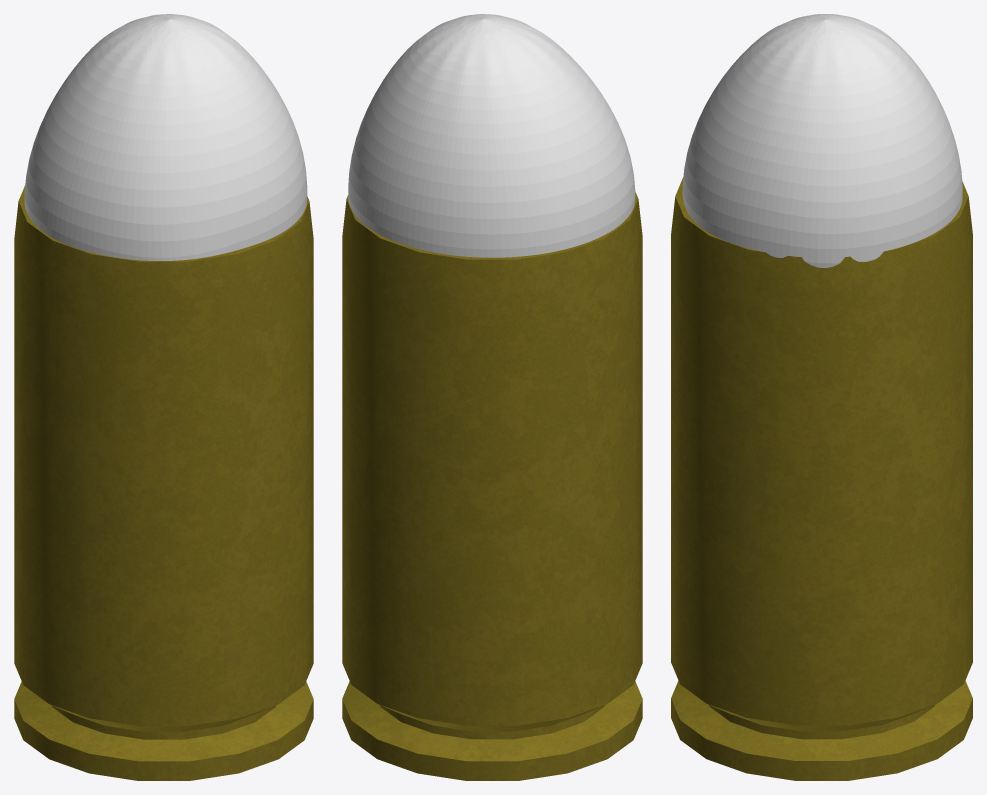
File: bullet.fbx
3 views of the same model, side by side, from view 1: azimuth 30°, elevation 25°; view 2: azimuth 150°, elevation 25°; view 3: azimuth 270°, elevation 25° (orthographic).
Visible parts, largest first — view 1: LP Bullet Shell040, Sphere; view 2: LP Bullet Shell040, Sphere; view 3: LP Bullet Shell040, Sphere.
Part boxes in pixels (<box>): LP Bullet Shell040: <box>14,185,313,780</box>; Sphere: <box>24,14,307,260</box>; LP Bullet Shell040: <box>342,192,642,780</box>; Sphere: <box>348,14,635,257</box>; LP Bullet Shell040: <box>671,177,972,780</box>; Sphere: <box>682,14,962,267</box>.
Size of the model in its own units: 27.96 by 72.85 by 28.39.
Materials: 2 (1 with a texture image).
